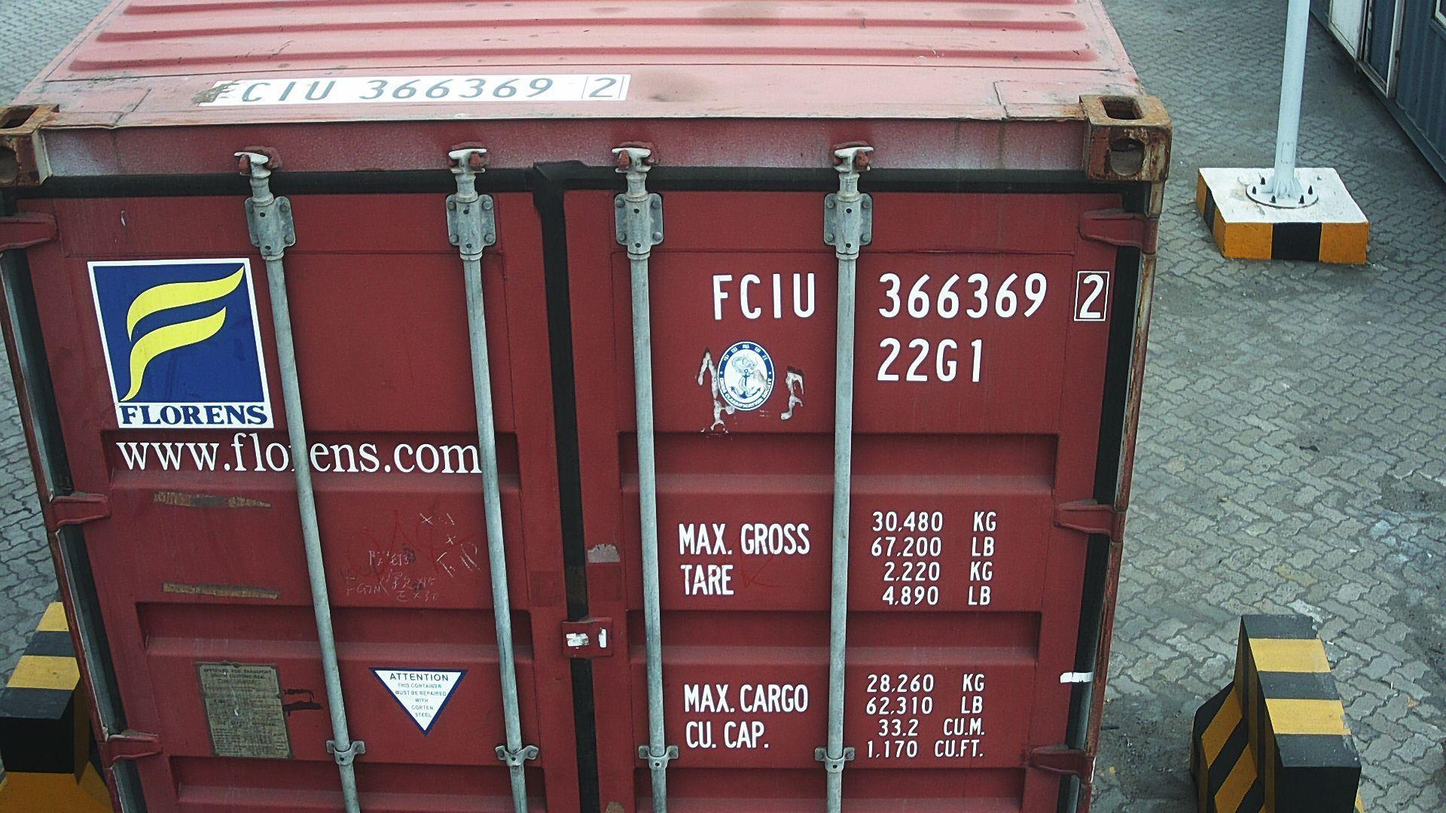container-numbers: (708, 265, 1117, 325), (195, 72, 637, 109), (871, 333, 988, 389)
